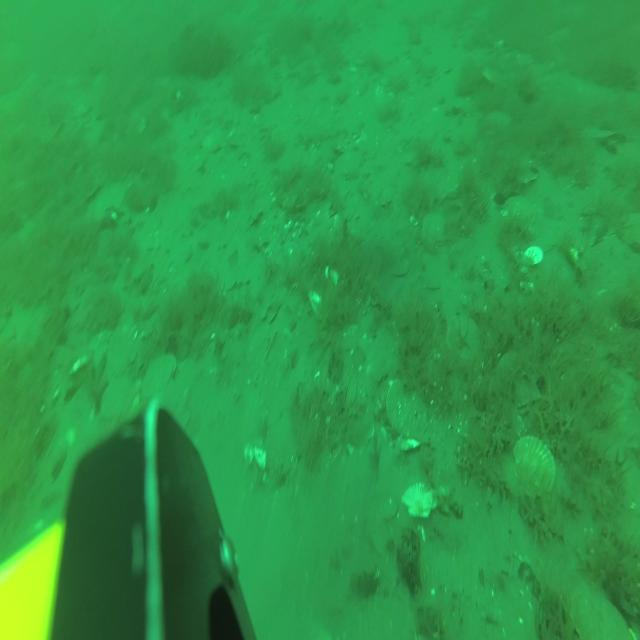scallop: (567, 576, 634, 640), (493, 345, 542, 410), (384, 377, 433, 440), (514, 434, 557, 502), (140, 350, 180, 402), (401, 479, 441, 522), (422, 208, 450, 247), (332, 146, 363, 177), (201, 123, 229, 155)
